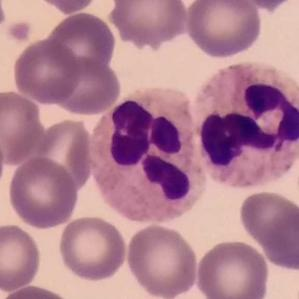Neutrophil: (91, 82, 213, 228), (188, 56, 299, 200)
Platelets: (9, 20, 32, 44)
RBC: (124, 221, 201, 299), (6, 154, 80, 230), (56, 214, 129, 283), (11, 37, 83, 105), (182, 0, 264, 59), (194, 237, 272, 299), (43, 10, 117, 75), (34, 118, 94, 193), (50, 56, 122, 116), (237, 188, 299, 254), (108, 0, 190, 49), (0, 88, 46, 166), (0, 222, 43, 292), (260, 201, 299, 272), (0, 282, 78, 299), (32, 0, 103, 14), (229, 0, 298, 12), (0, 125, 7, 200), (0, 0, 8, 40)
